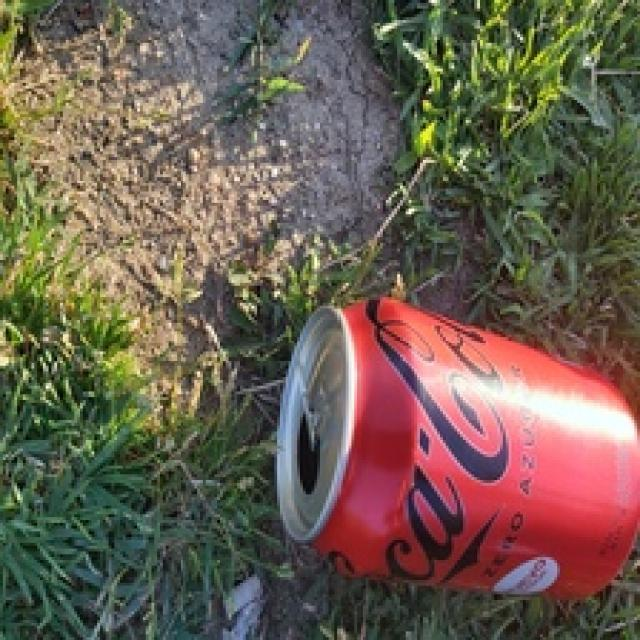recyclable: (275, 298, 640, 602)
